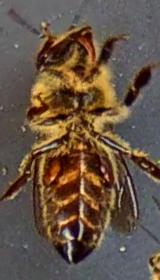varroa_mite: (30, 146, 64, 187), (86, 150, 120, 190)
